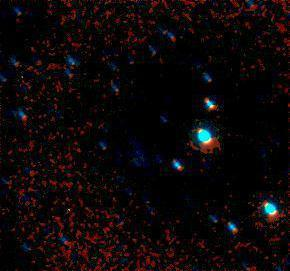star: (33, 221, 63, 251)
